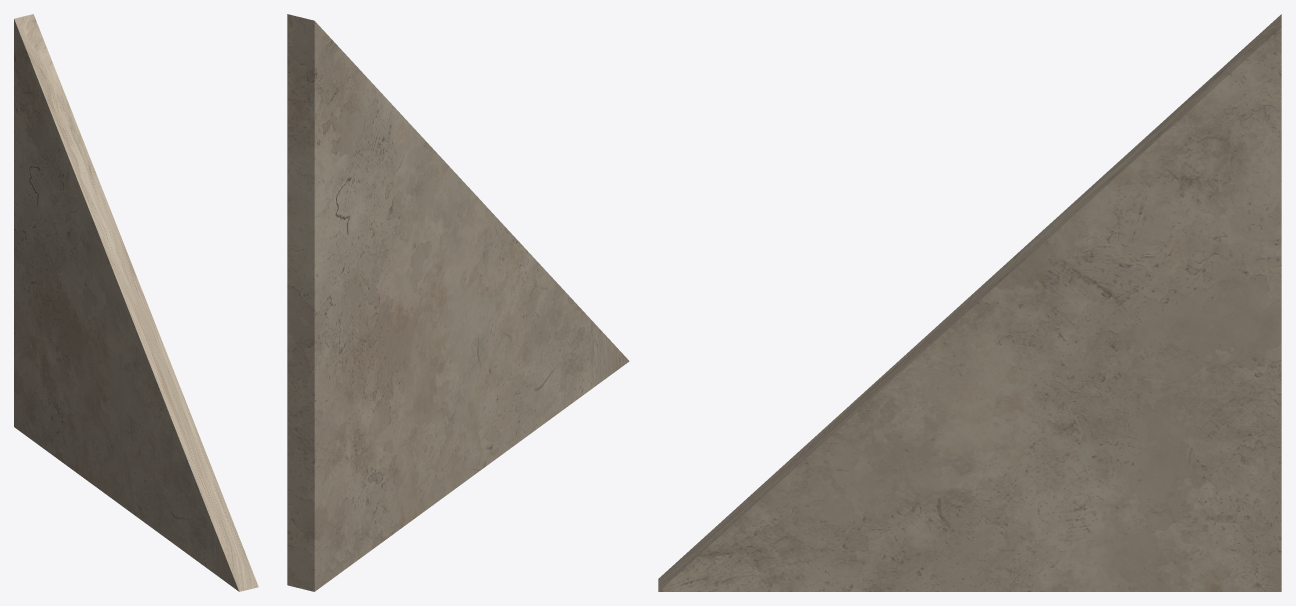
The model's file is SM_Wall_Slope_2x2.fbx.
3 views of the same model, side by side, from view 1: azimuth 30°, elevation 25°; view 2: azimuth 150°, elevation 25°; view 3: azimuth 270°, elevation 25° (orthographic). The views are drawn at different scales.
Parts seen in each view (by area): view 1: SM_Wall_Slope_2x2_LOD0; view 2: SM_Wall_Slope_2x2_LOD0; view 3: SM_Wall_Slope_2x2_LOD0.
Boxes of the visible parts, x1,y1,x2,y2 form: SM_Wall_Slope_2x2_LOD0: (14,14,258,591); SM_Wall_Slope_2x2_LOD0: (287,14,629,591); SM_Wall_Slope_2x2_LOD0: (658,14,1281,591).
Bounding box in the file's own units: 10 × 200 × 200.
